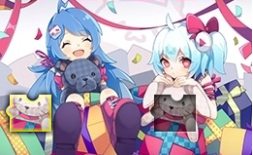gap: (150, 94, 196, 132)
